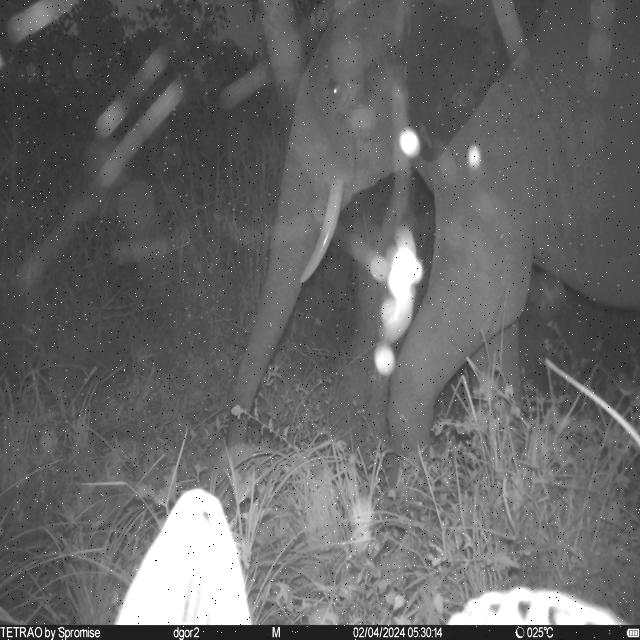ear: (408, 5, 544, 164)
elephant: (229, 1, 640, 460)
tusk: (298, 180, 344, 286)
